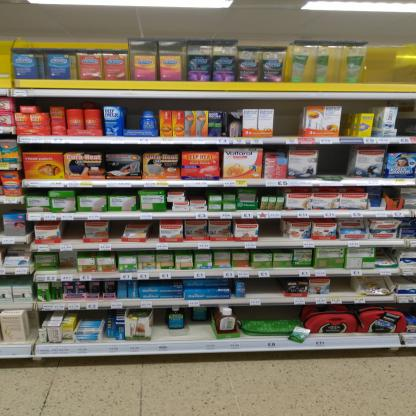Void: (319, 147, 347, 172), (242, 307, 298, 319), (278, 108, 299, 134), (251, 279, 280, 297), (155, 333, 213, 340), (60, 222, 80, 242), (124, 106, 139, 131), (334, 280, 352, 296), (262, 221, 278, 238), (377, 247, 393, 259), (111, 220, 120, 240), (188, 188, 204, 198)
